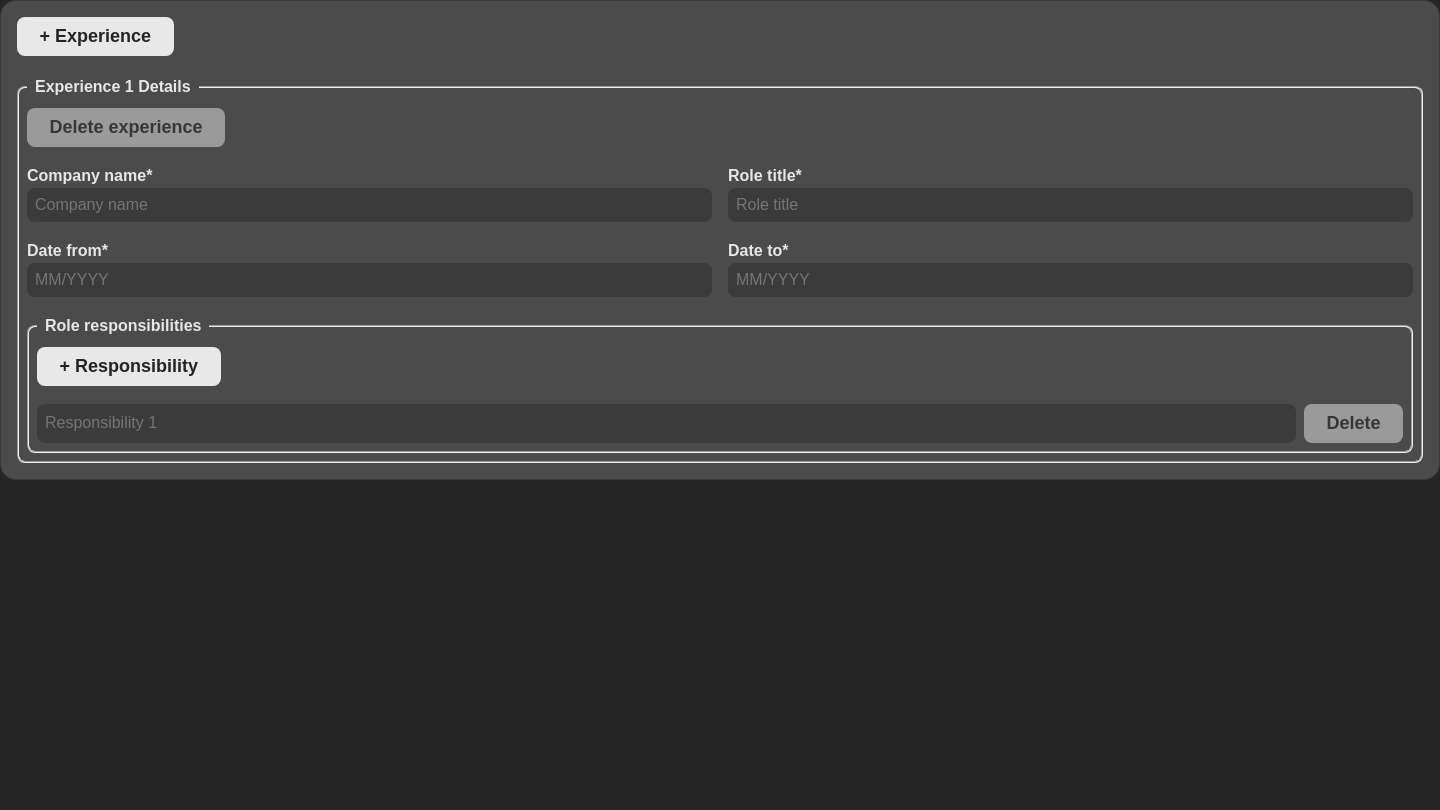
Test: Testing the Experience component › Testing buttons and inputs › Clicking delete responsibility deletes the correct responsibility
The width and height of the screenshot is (1440, 810).
Click the button "+ Responsibility".
click(129, 366)  # box [37,347,220,386]
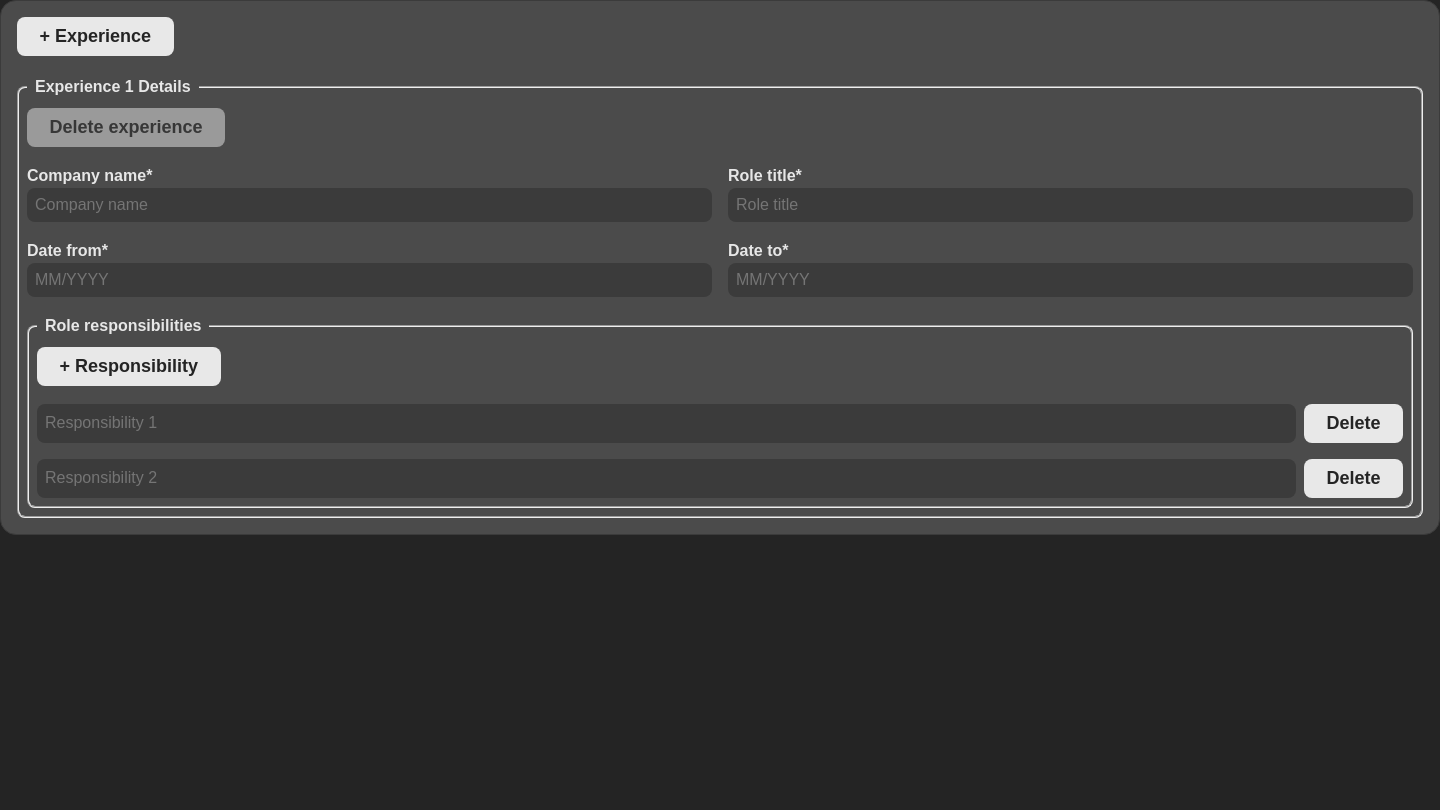
Click the button "+ Responsibility".
click(129, 366)  # box [37,347,220,386]
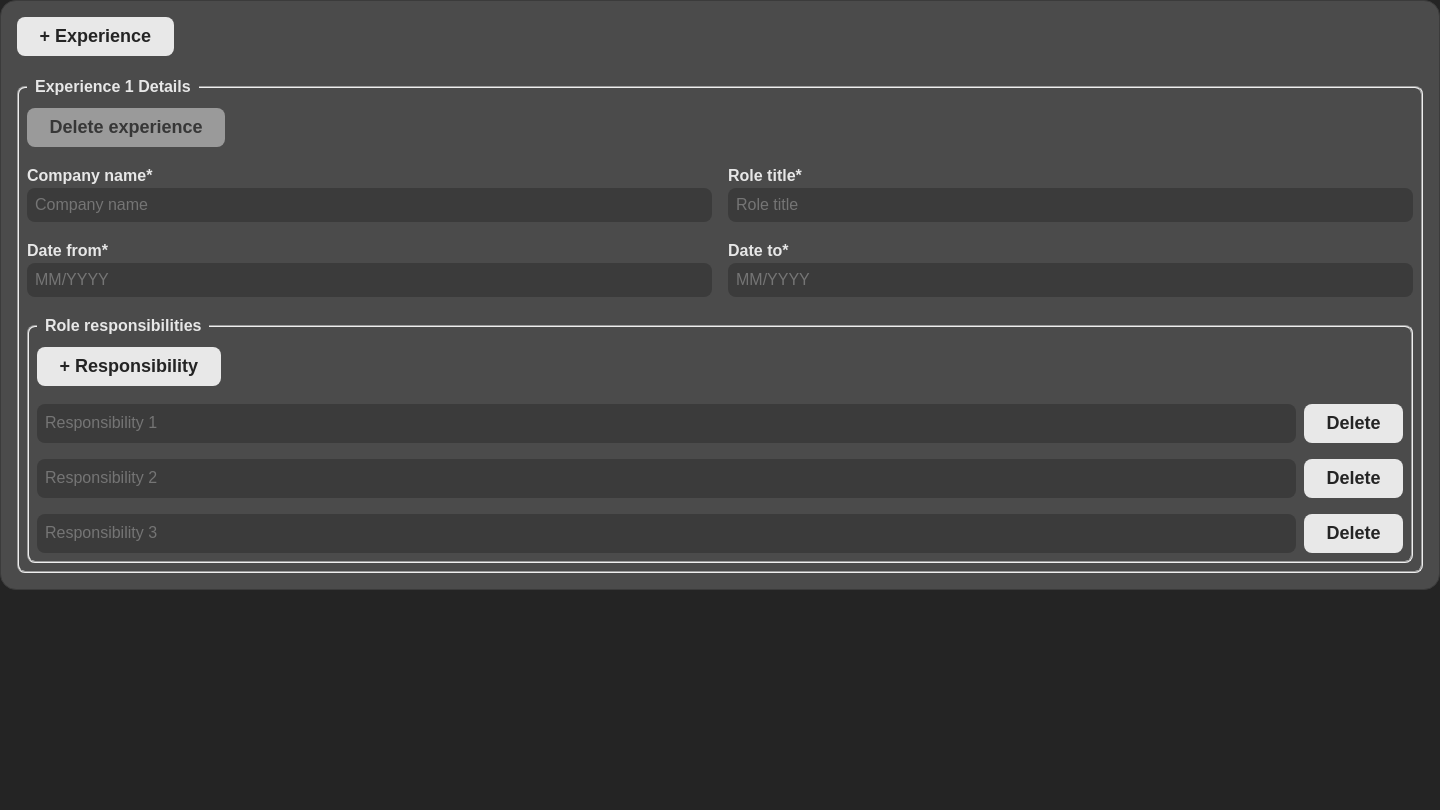
expect the number of fields labelled "Delete" is 3: met
Type "Resp 1" into the 1st field labelled "Delete".
click(666, 423); type("Resp 1")  # box [37,404,1296,443]
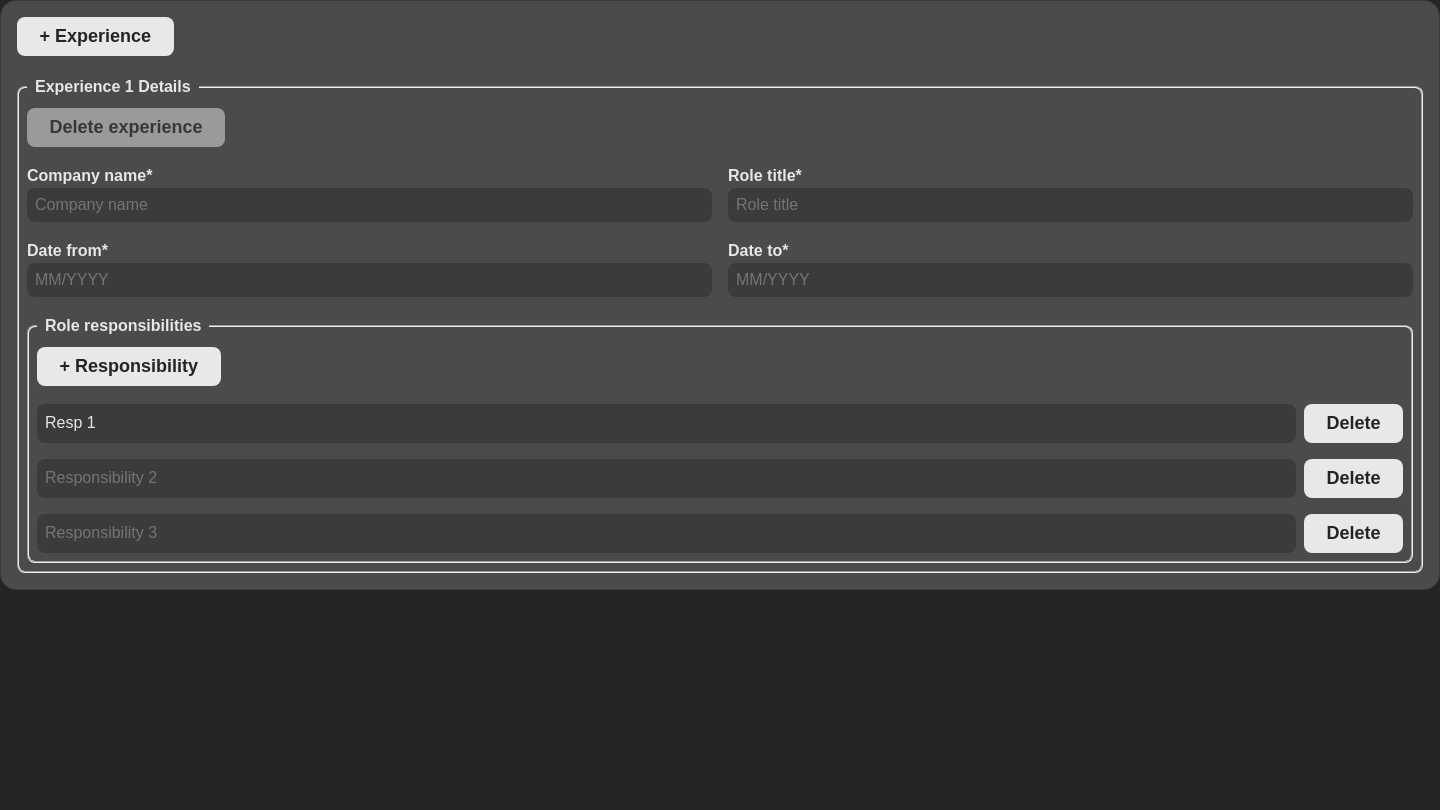
Type "Resp 2" into the 2nd field labelled "Delete".
click(666, 478); type("Resp 2")  # box [37,459,1296,498]
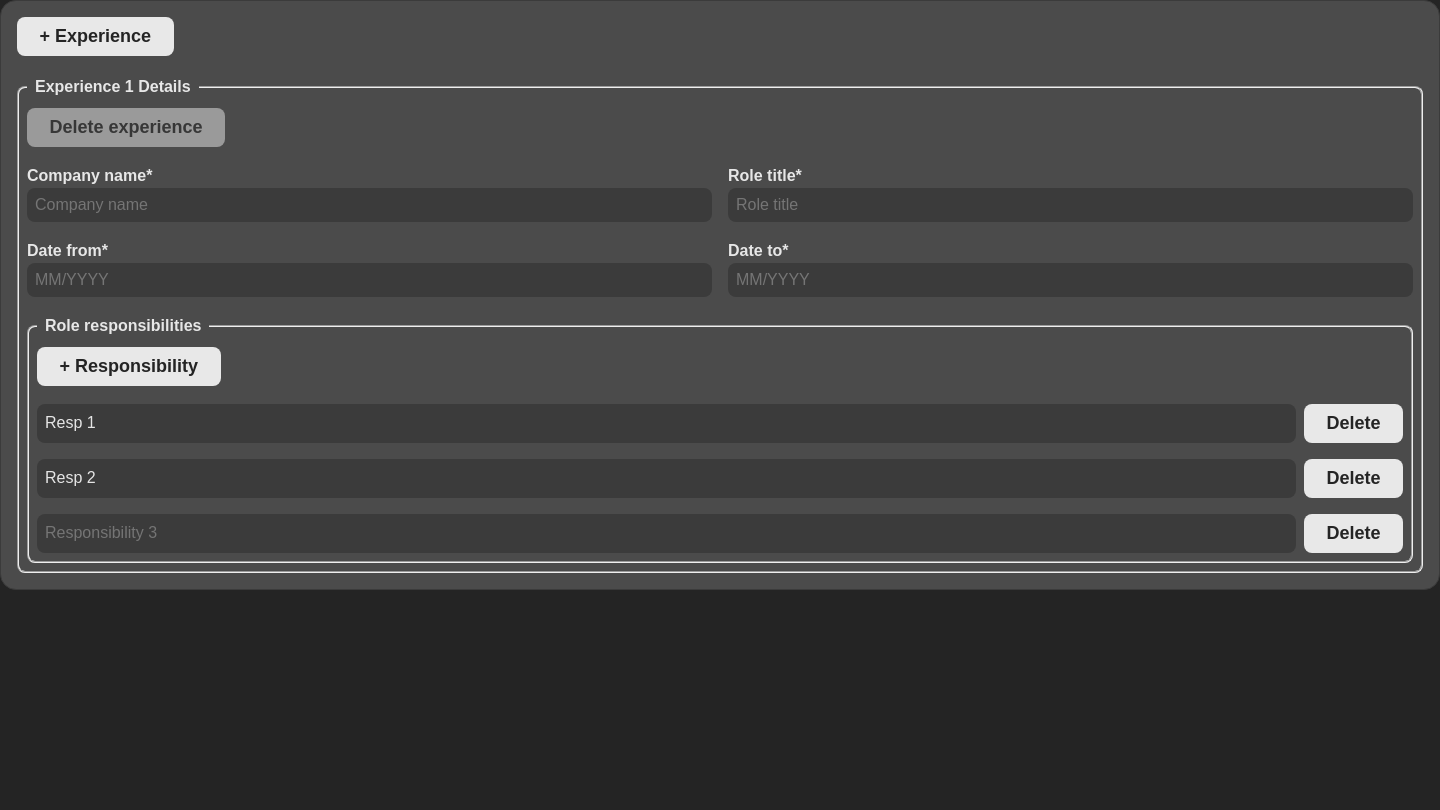
Type "Resp 3" into the 3rd field labelled "Delete".
click(666, 533); type("Resp 3")  # box [37,514,1296,553]
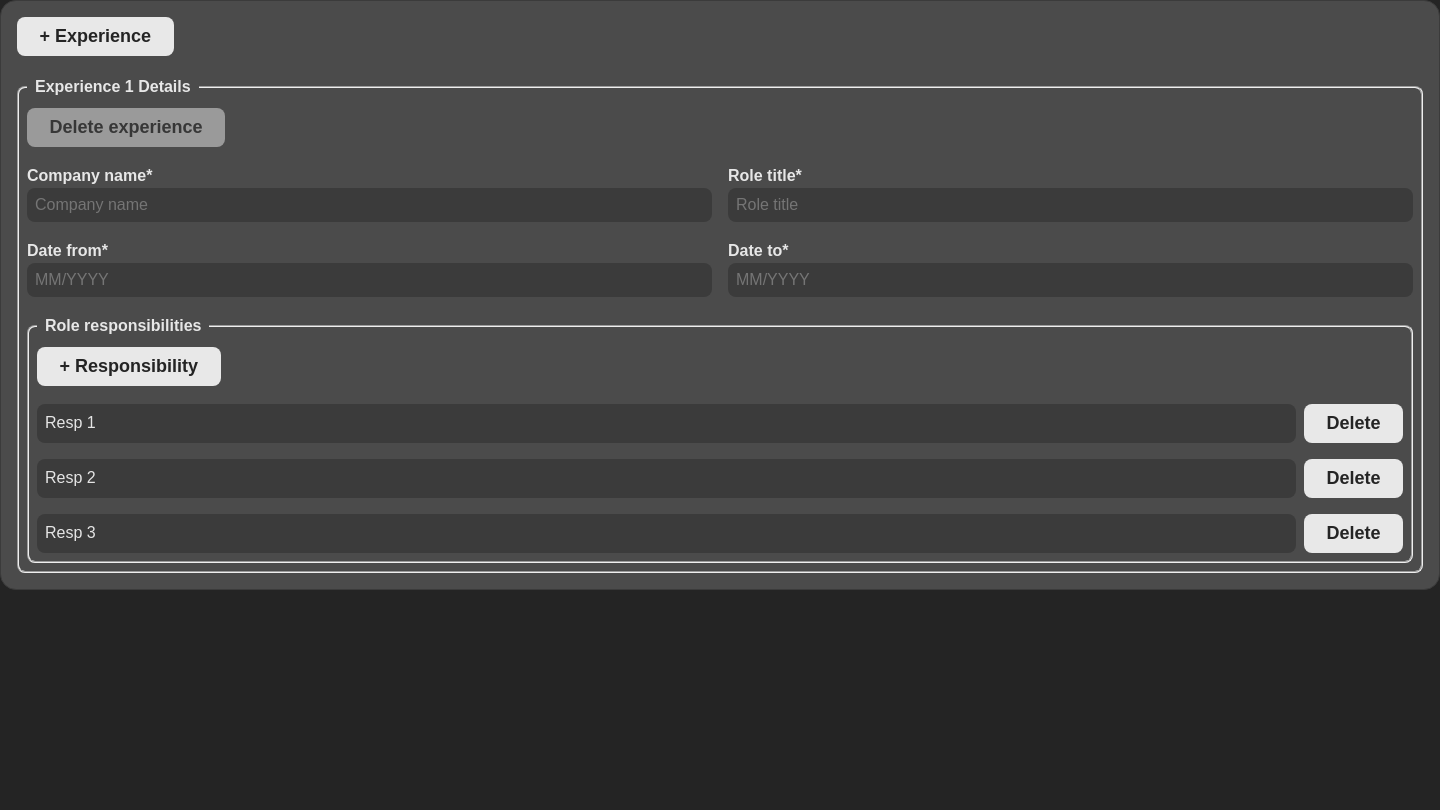
Click the 2nd button "Delete".
click(1354, 478)  # box [1304,459,1403,498]
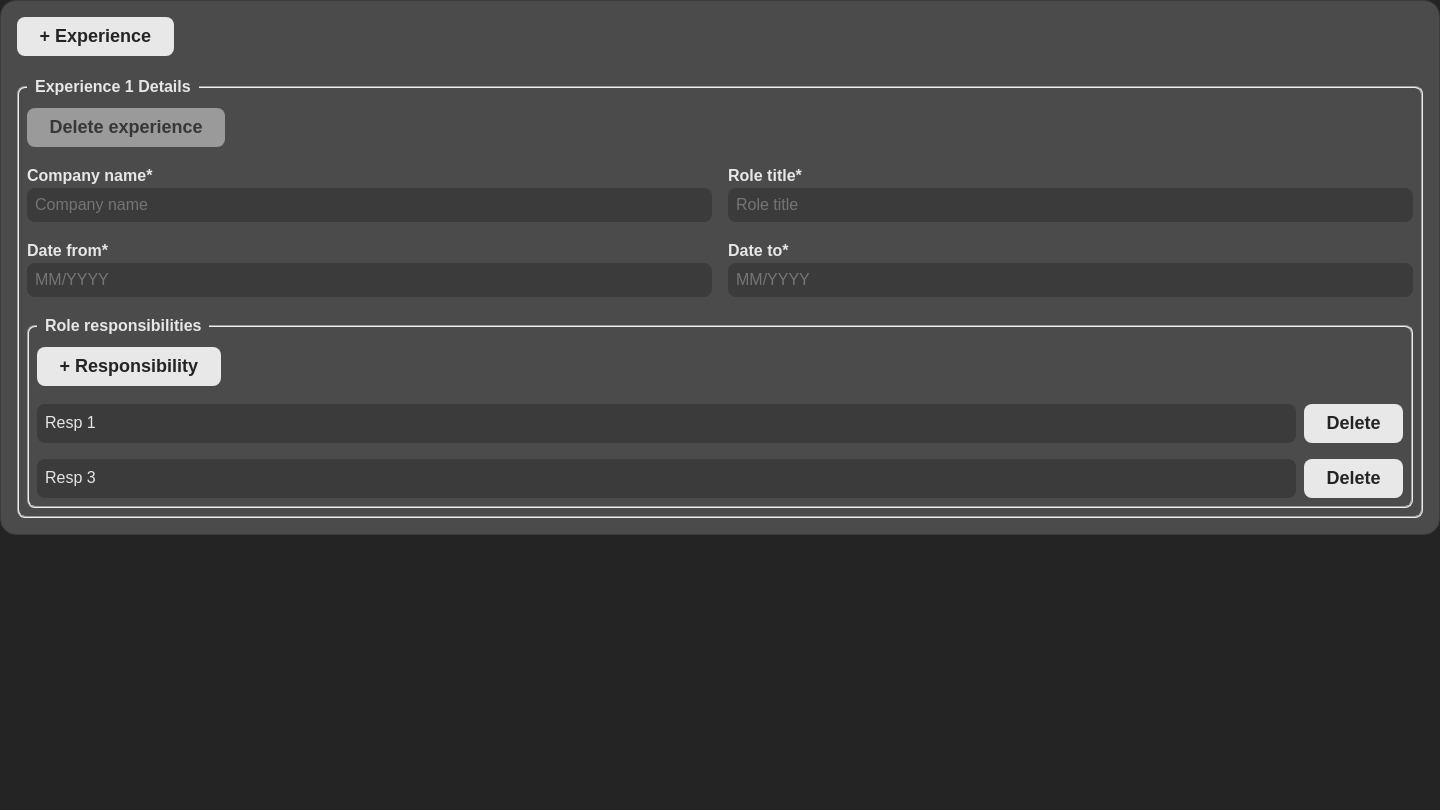
expect the number of fields labelled "Delete" is 2: met, box [37,404,1296,443]; [37,459,1296,498]
expect the 2nd field showing "Resp 3" is shown: met, box [37,459,1296,498]
